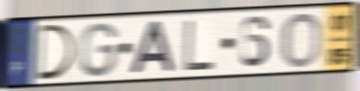6: (240, 14, 272, 70)
A: (127, 19, 178, 76)
D: (36, 23, 78, 83)
G: (78, 21, 120, 79)
L: (183, 19, 216, 72)
O: (279, 11, 323, 70)
